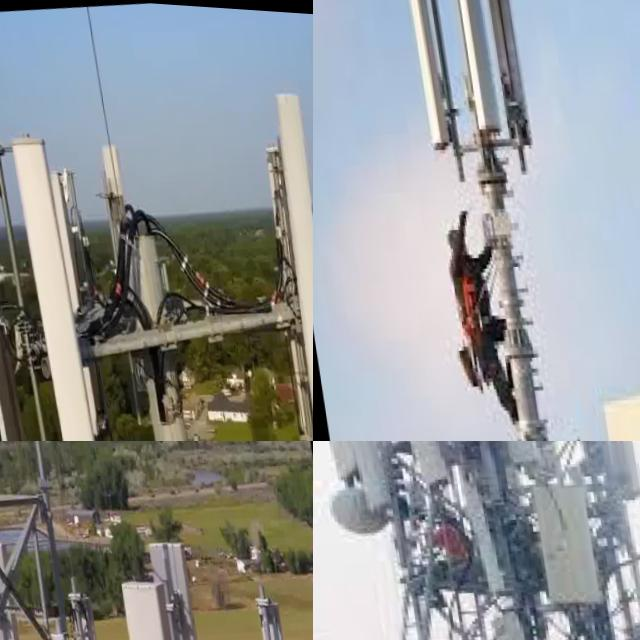GSM Antenna: (2, 123, 92, 441), (117, 211, 221, 441), (262, 70, 313, 441), (0, 76, 46, 441), (525, 474, 610, 617), (88, 111, 148, 298), (472, 0, 540, 163), (144, 520, 227, 640), (387, 0, 453, 150), (434, 0, 500, 135), (332, 441, 462, 501), (313, 441, 403, 513), (0, 518, 40, 640), (250, 575, 313, 640), (579, 441, 640, 504)
Microwave Antenna: (318, 480, 393, 548)
